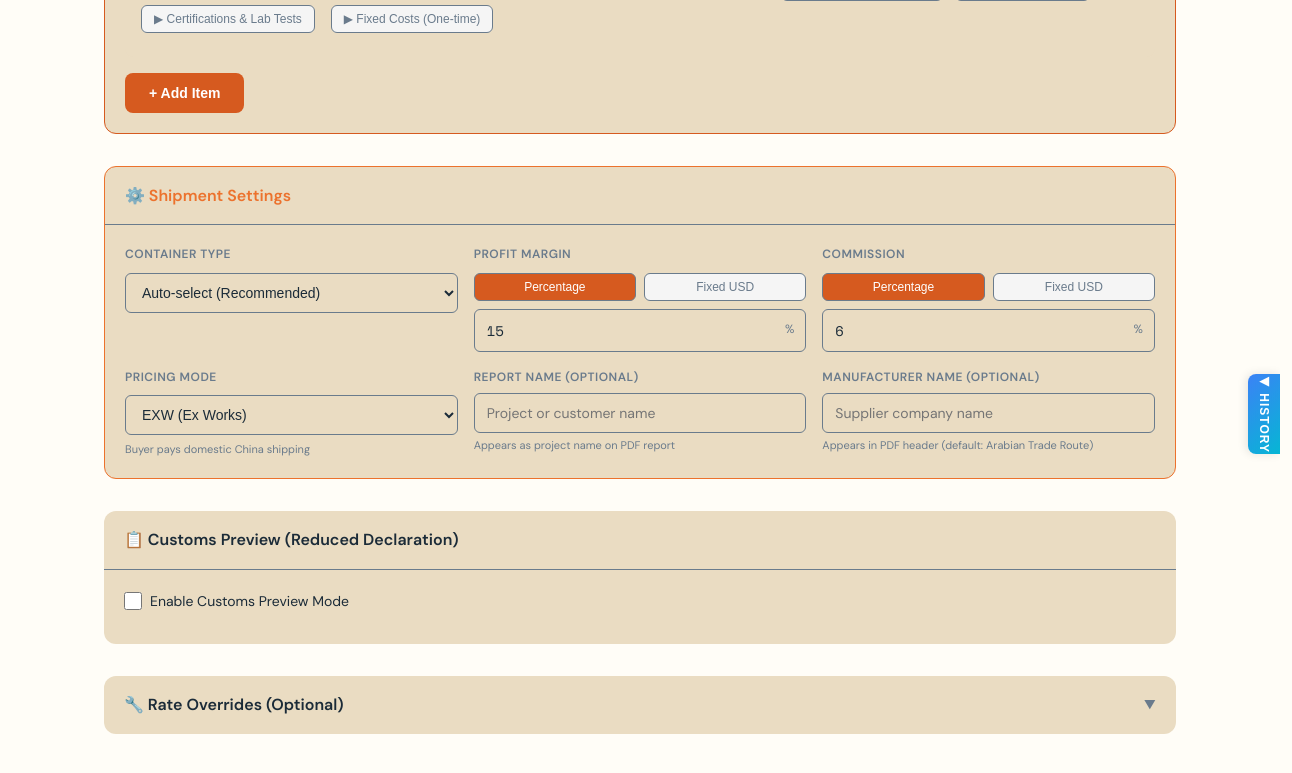
Test case: App › Pricing Mode › should allow selecting CIF and update price label
(page scrolled)
Select "CIF (Cost, Insurance & Freight)" in the dropdown below "Pricing Mode" at (291, 415), box 125,395 -> 458,435
(page scrolled)
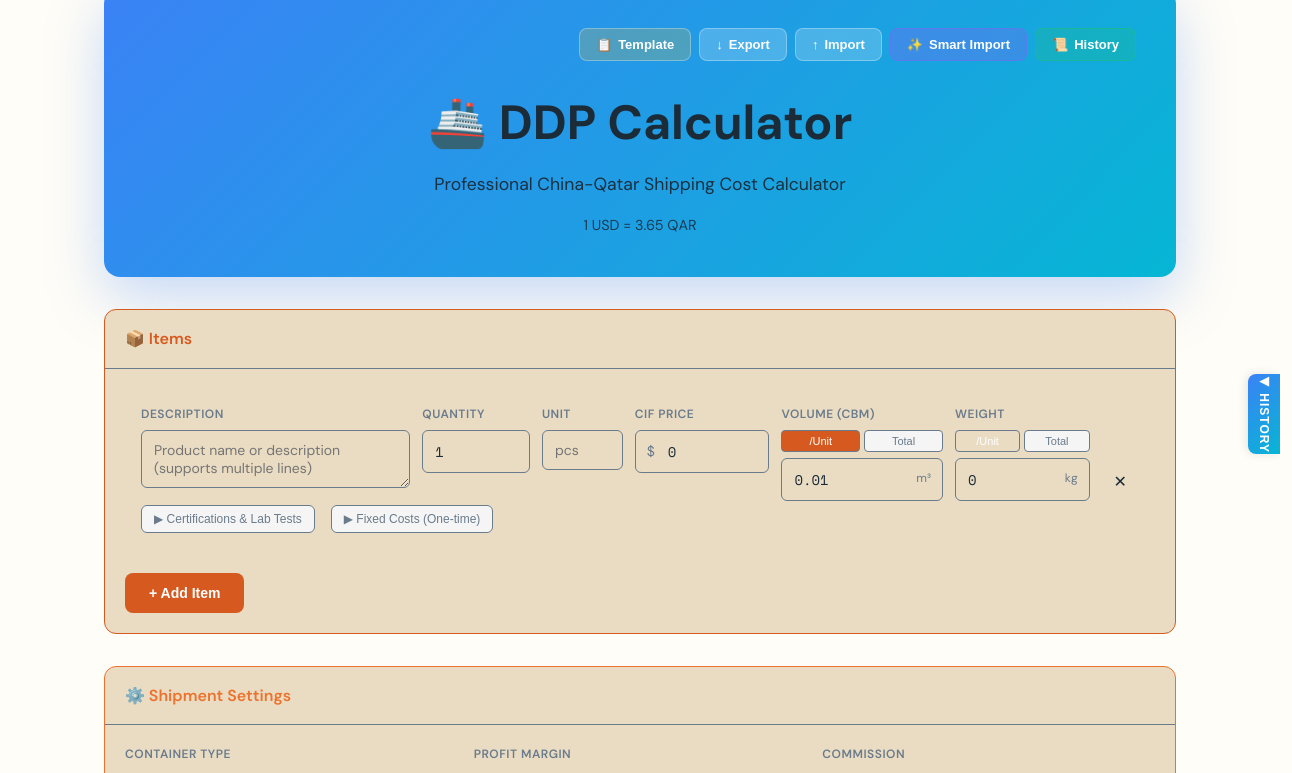
expect the text "CIF Price" is shown: met, box 635,406 -> 694,422
